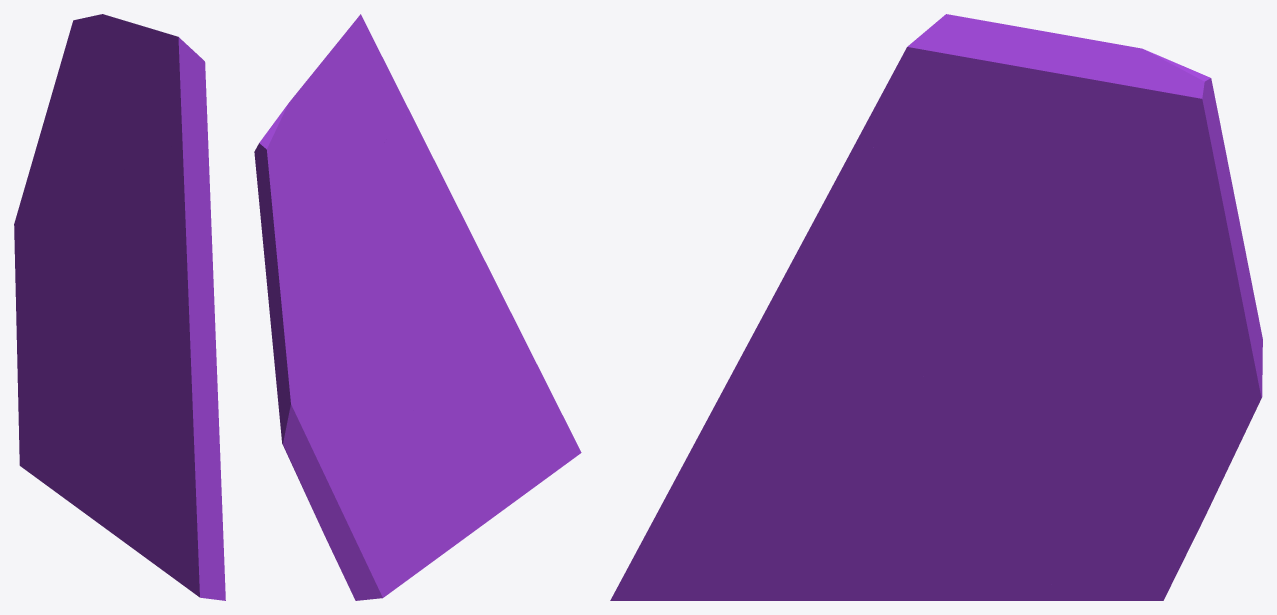
The model's file is Window_2_16_chunks.fbx.
The picture shows the model from 3 angles, left to right: view 1: azimuth 30°, elevation 25°; view 2: azimuth 150°, elevation 25°; view 3: azimuth 270°, elevation 25°; orthographic projection. The views are drawn at different scales.
Parts seen in each view (by area): view 1: Window_2_16_4, Window_2_16_7, Window_2_16_1, Window_2_16_9, Window_2_16_2, Window_2_16_5, Window_2_16_6, Window_2_16_3, Window_2_16_8, Window_2_16_0; view 2: Window_2_16_4, Window_2_16_1, Window_2_16_7, Window_2_16_9, Window_2_16_2, Window_2_16_3, Window_2_16_5, Window_2_16_6, Window_2_16_8, Window_2_16_0; view 3: Window_2_16_4, Window_2_16_7, Window_2_16_1, Window_2_16_9, Window_2_16_3, Window_2_16_5, Window_2_16_6, Window_2_16_2.
Boxes of the visible parts, box(x1,y1,x2,y2) form: Window_2_16_4: box(43, 370, 225, 600); Window_2_16_7: box(120, 149, 220, 466); Window_2_16_1: box(14, 14, 113, 282); Window_2_16_9: box(98, 17, 208, 169); Window_2_16_2: box(15, 269, 83, 407); Window_2_16_5: box(55, 269, 152, 375); Window_2_16_6: box(85, 130, 131, 314); Window_2_16_3: box(17, 381, 65, 482); Window_2_16_8: box(123, 141, 188, 198); Window_2_16_0: box(42, 231, 95, 270); Window_2_16_4: box(400, 334, 581, 578); Window_2_16_1: box(254, 90, 352, 462); Window_2_16_7: box(380, 109, 524, 340); Window_2_16_9: box(299, 14, 401, 204); Window_2_16_2: box(291, 383, 402, 529); Window_2_16_3: box(294, 469, 408, 600); Window_2_16_5: box(342, 326, 461, 426); Window_2_16_6: box(327, 204, 411, 329); Window_2_16_8: box(362, 96, 408, 215); Window_2_16_0: box(331, 309, 375, 400); Window_2_16_4: box(610, 407, 1054, 600); Window_2_16_7: box(684, 137, 990, 462); Window_2_16_1: box(1081, 43, 1262, 421); Window_2_16_9: box(859, 14, 1114, 229); Window_2_16_3: box(1026, 419, 1246, 600); Window_2_16_5: box(837, 319, 1168, 458); Window_2_16_6: box(968, 198, 1095, 359); Window_2_16_2: box(1103, 372, 1249, 428).
Bounding box in the file's own units: 173 × 742 × 690.
